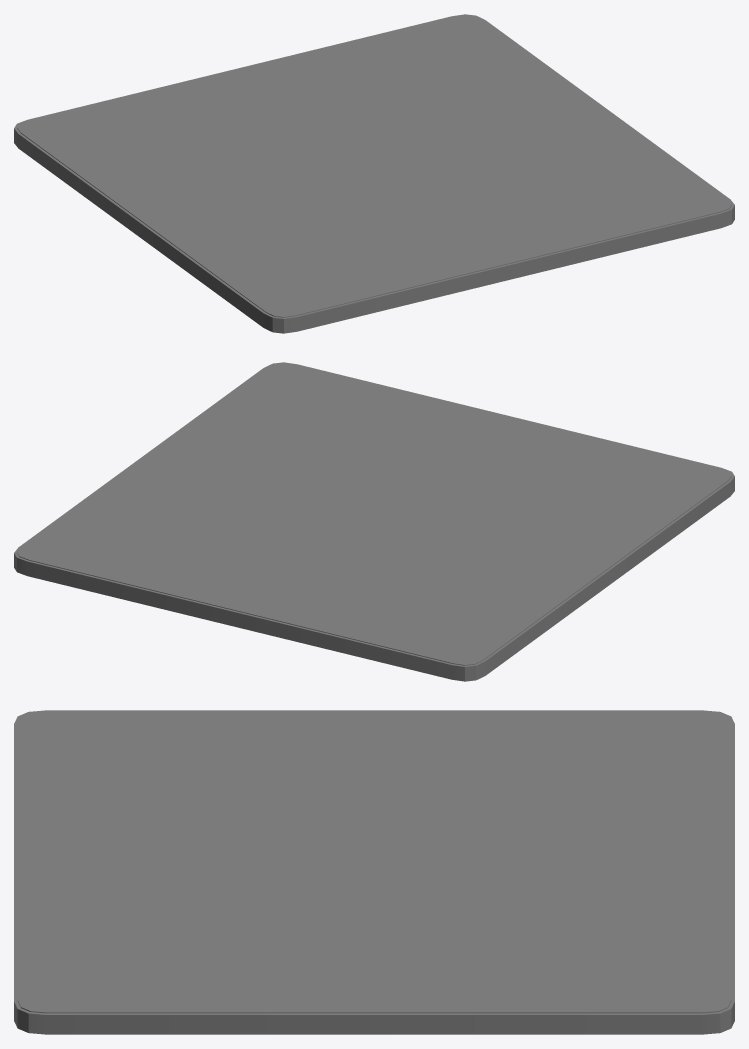
Rendered from ground_platform_01.fbx.
3 renders of one model, top to bottom at view 1: azimuth 30°, elevation 25°; view 2: azimuth 150°, elevation 25°; view 3: azimuth 270°, elevation 25°, orthographic. The views are drawn at different scales.
Parts seen in each view (by area): view 1: ground_platform_01; view 2: ground_platform_01; view 3: ground_platform_01.
Part boxes in pixels (<box>): ground_platform_01: <box>14,14,734,333</box>; ground_platform_01: <box>14,362,734,681</box>; ground_platform_01: <box>14,710,734,1034</box>.
Bounding box in the file's own units: 400 × 12.61 × 400.
